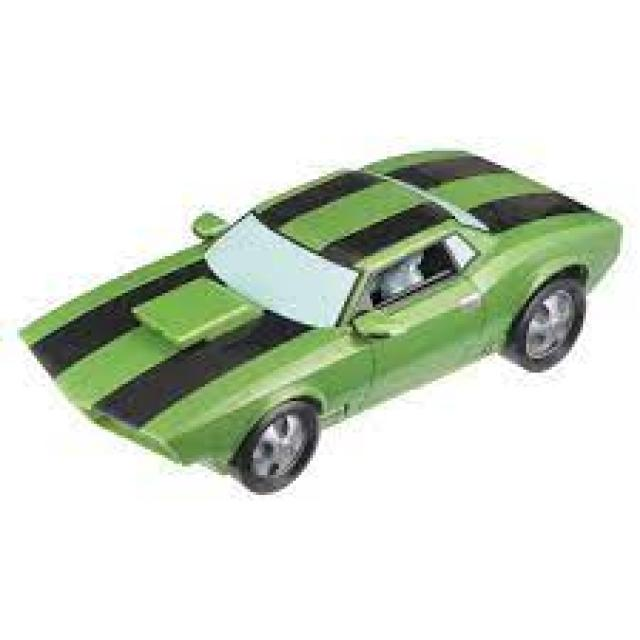Car: (17, 145, 623, 495)
